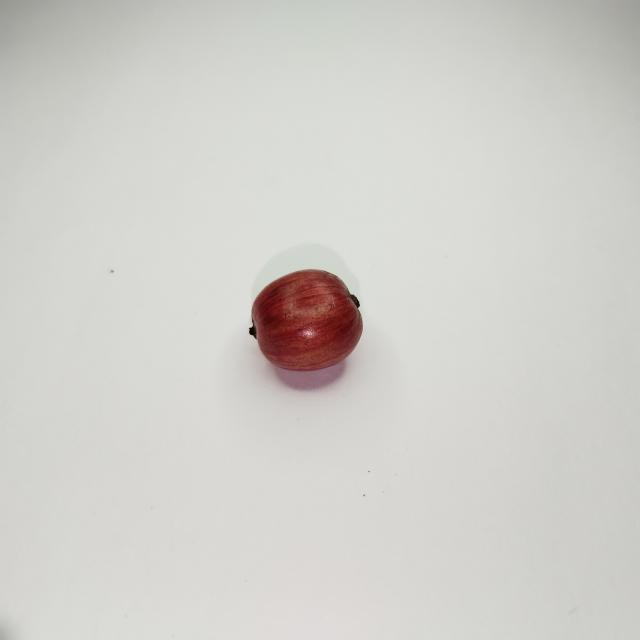Sano: (249, 267, 362, 377)
